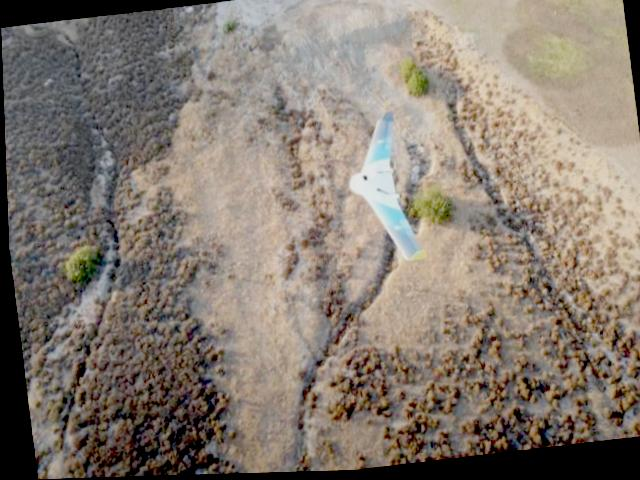iha: (340, 99, 420, 270)
